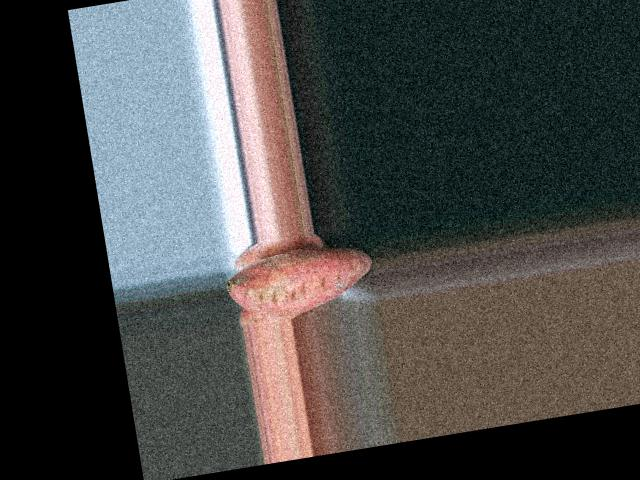sweet_potato: (223, 245, 376, 319)
